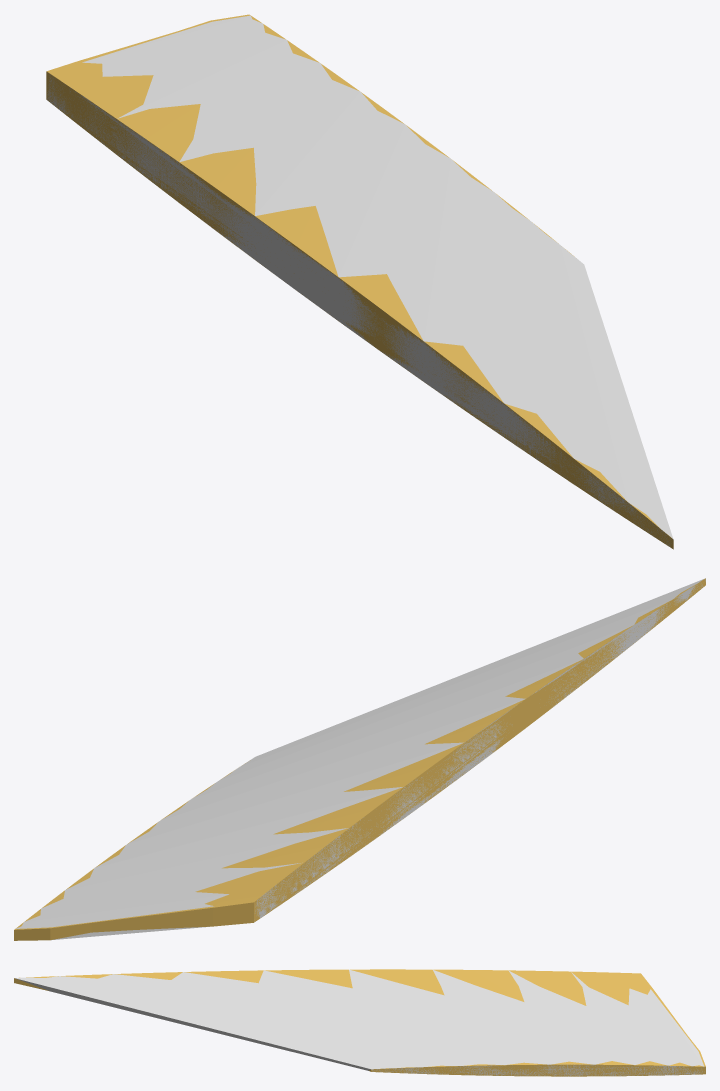
File: fuel_strake_L.fbx
3 views of the same model, one above another, from view 1: azimuth 30°, elevation 25°; view 2: azimuth 150°, elevation 25°; view 3: azimuth 270°, elevation 25° (orthographic). The views are drawn at different scales.
Parts seen in each view (by area): view 1: fuel_strake_L_colmesh0, fuel_strake_L; view 2: fuel_strake_L_colmesh0, fuel_strake_L; view 3: fuel_strake_L_colmesh0, fuel_strake_L.
Boxes of the visible parts, left/top/right/bottom form: fuel_strake_L_colmesh0: left=47, top=15, right=673, bottom=546; fuel_strake_L: left=46, top=14, right=673, bottom=549; fuel_strake_L_colmesh0: left=16, top=578, right=705, bottom=940; fuel_strake_L: left=14, top=578, right=705, bottom=940; fuel_strake_L_colmesh0: left=14, top=969, right=704, bottom=1076; fuel_strake_L: left=14, top=969, right=705, bottom=1076.
Size of what is drawn, in the model's own units: 0.88 by 0.262 by 3.94.
